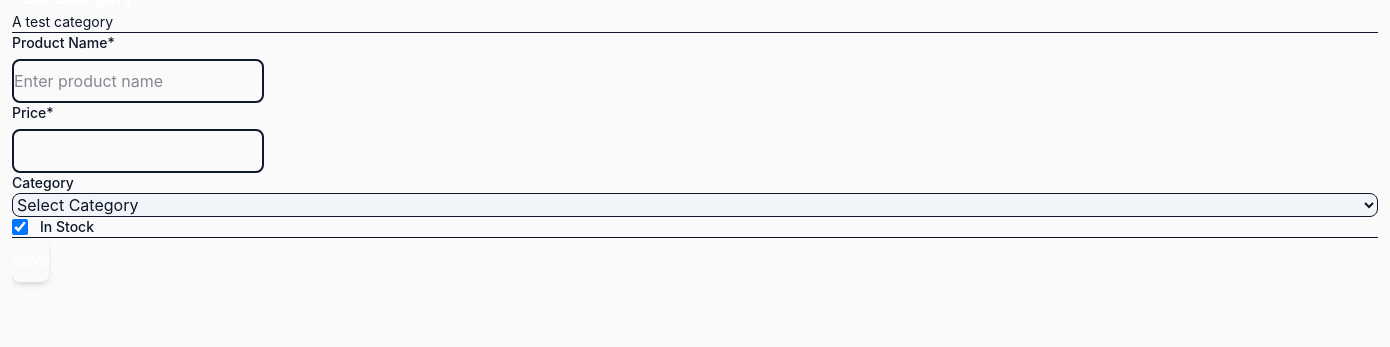
Test: DynamicCategoryForm › validates number field min/max
Type "-10" into the number field labelled "Price*". click: (138, 151)
box: [12,129,264,173]
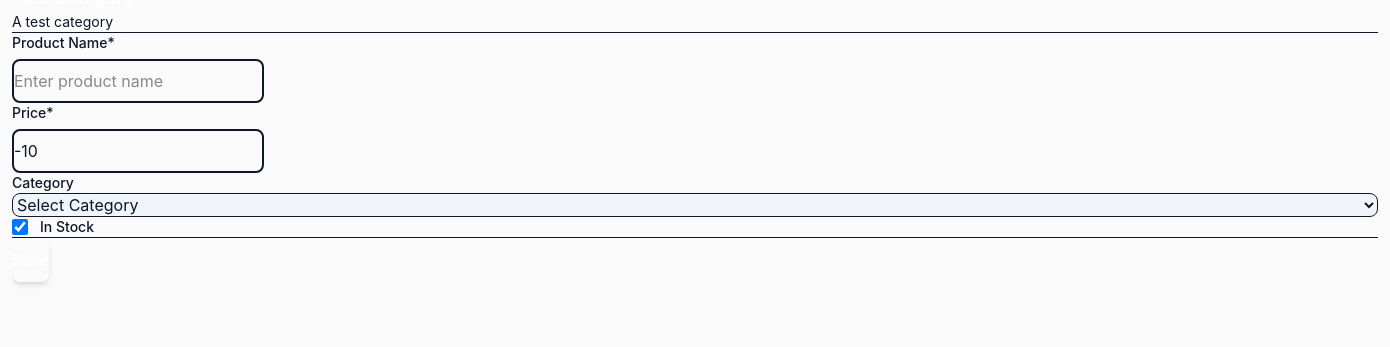
Leave the number field labelled "Price*", box [12,129,264,173]
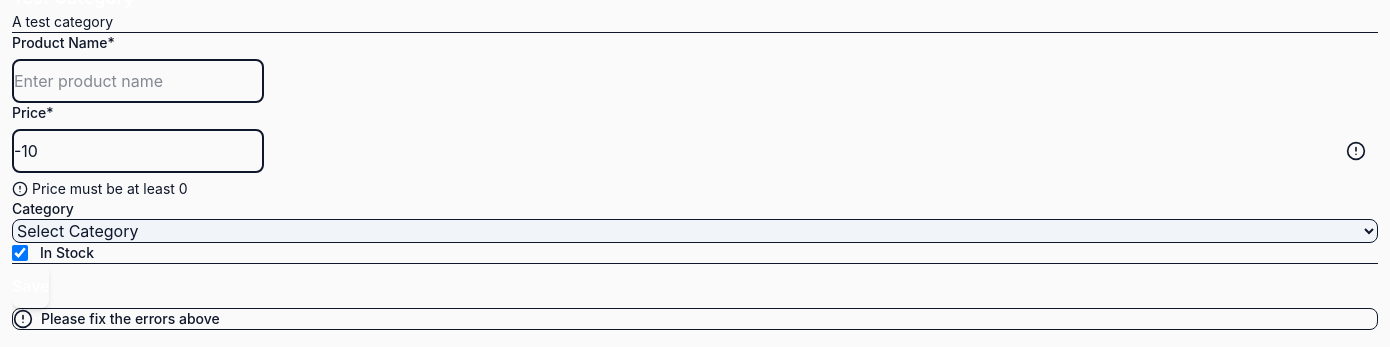
Now the text "Price must be at least 0" is shown, box [12,179,188,199]
